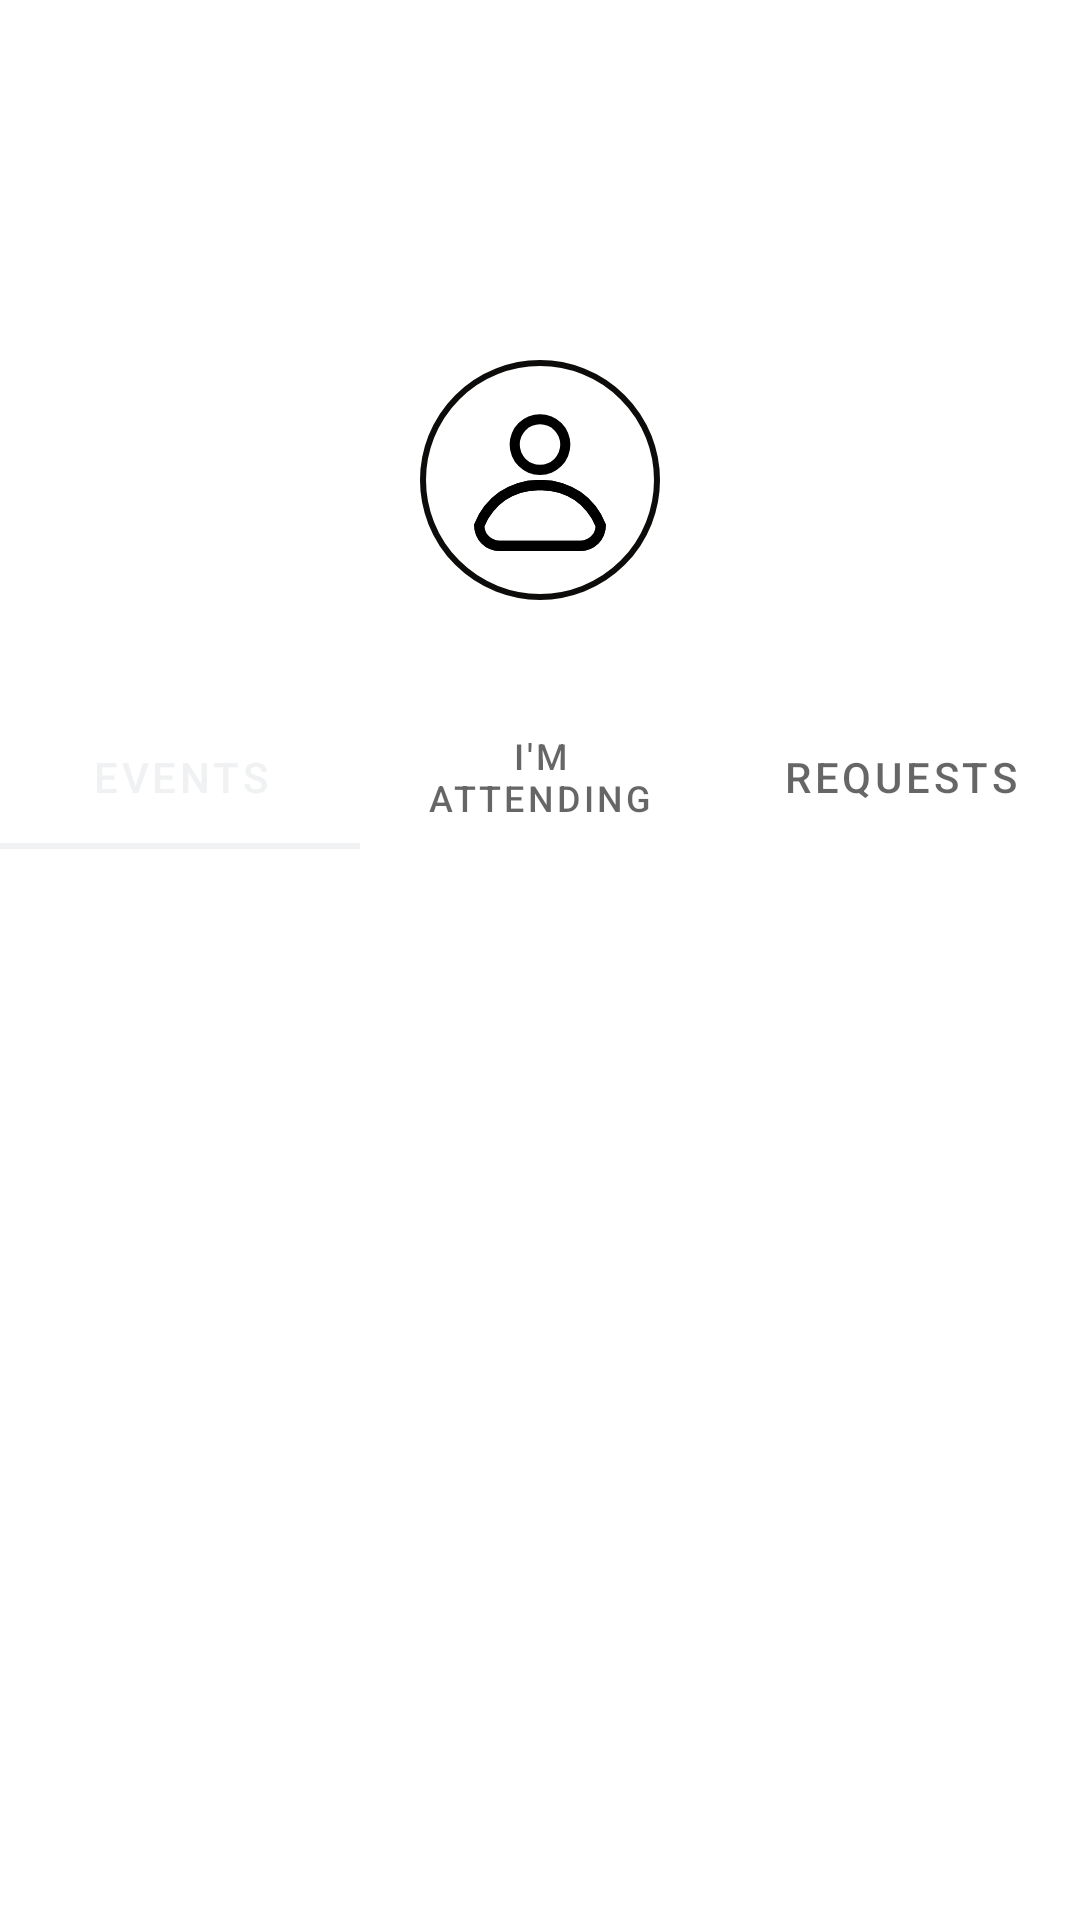

Icons on this 1080w x 1920h Android screen, each with its box as (x1, y1, x2, y2):
profile: (420, 360, 660, 600)
